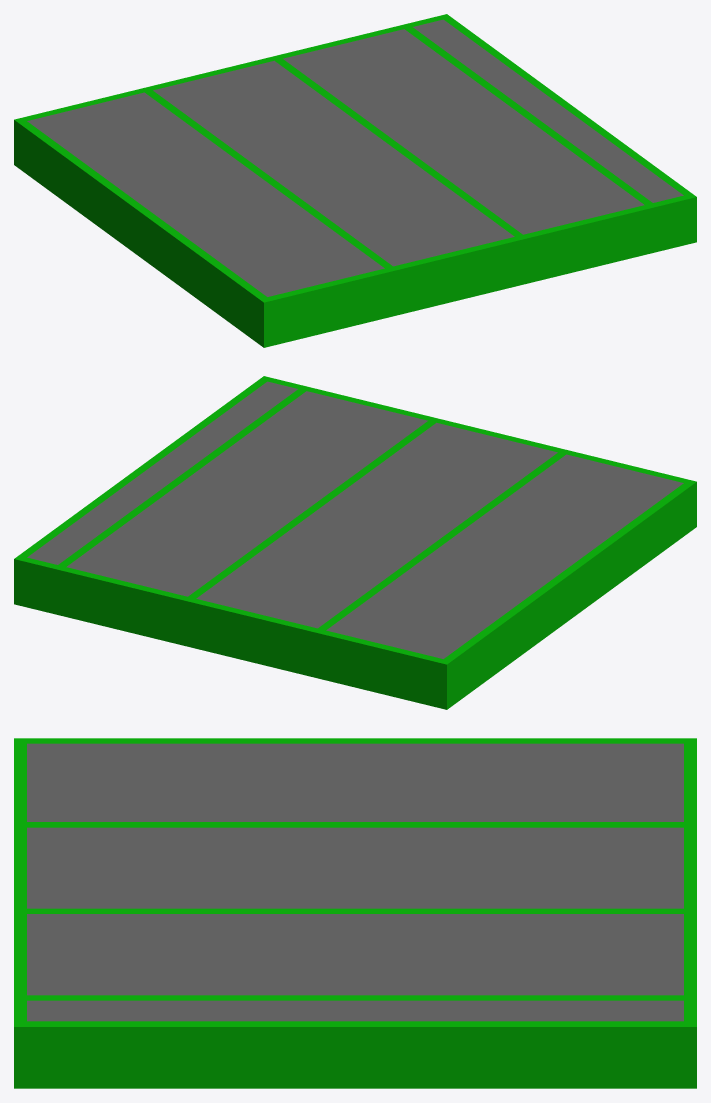
The model's file is wall.glb.
The picture shows the model from 3 angles, top to bottom: view 1: azimuth 30°, elevation 25°; view 2: azimuth 150°, elevation 25°; view 3: azimuth 270°, elevation 25°; orthographic projection. The views are drawn at different scales.
Parts seen in each view (by area): view 1: insulation1, insulation2, insulation0, topplate, stud0, insulation3, bottomplate, stud3, endstud, stud2, stud1; view 2: insulation1, insulation2, insulation0, bottomplate, stud0, insulation3, topplate, stud3, endstud, stud2, stud1; view 3: insulation1, insulation2, insulation0, endstud, insulation3, bottomplate, topplate, stud0, stud1, stud2, stud3.
Part boxes in pixels (x1=…): insulation1: x1=153, y1=60, x2=514, y2=266; insulation2: x1=283, y1=29, x2=644, y2=234; insulation0: x1=27, y1=92, x2=384, y2=296; topplate: x1=259, y1=193, x2=696, y2=347; stud0: x1=18, y1=121, x2=266, y2=343; insulation3: x1=413, y1=19, x2=683, y2=202; bottomplate: x1=14, y1=14, x2=451, y2=167; stud3: x1=404, y1=27, x2=652, y2=204; endstud: x1=444, y1=17, x2=691, y2=195; stud2: x1=275, y1=59, x2=522, y2=236; stud1: x1=145, y1=90, x2=392, y2=268; insulation1: x1=196, y1=422, x2=557, y2=628; insulation2: x1=66, y1=391, x2=427, y2=596; insulation0: x1=326, y1=454, x2=683, y2=658; bottomplate: x1=14, y1=555, x2=451, y2=709; stud0: x1=444, y1=483, x2=692, y2=705; insulation3: x1=27, y1=381, x2=297, y2=564; topplate: x1=259, y1=376, x2=696, y2=529; stud3: x1=58, y1=389, x2=306, y2=566; endstud: x1=19, y1=379, x2=266, y2=557; stud2: x1=188, y1=421, x2=435, y2=598; stud1: x1=318, y1=452, x2=565, y2=630; insulation1: x1=27, y1=827, x2=683, y2=908; insulation2: x1=27, y1=914, x2=683, y2=995; insulation0: x1=27, y1=743, x2=683, y2=821; endstud: x1=27, y1=1021, x2=683, y2=1088; insulation3: x1=27, y1=1000, x2=683, y2=1021; bottomplate: x1=684, y1=738, x2=696, y2=1088; topplate: x1=14, y1=738, x2=26, y2=1088; stud0: x1=27, y1=738, x2=683, y2=743; stud1: x1=27, y1=822, x2=683, y2=827; stud2: x1=27, y1=908, x2=683, y2=913; stud3: x1=27, y1=995, x2=683, y2=1000.
Size of the model in its own units: 2000 by 200 by 2000.
